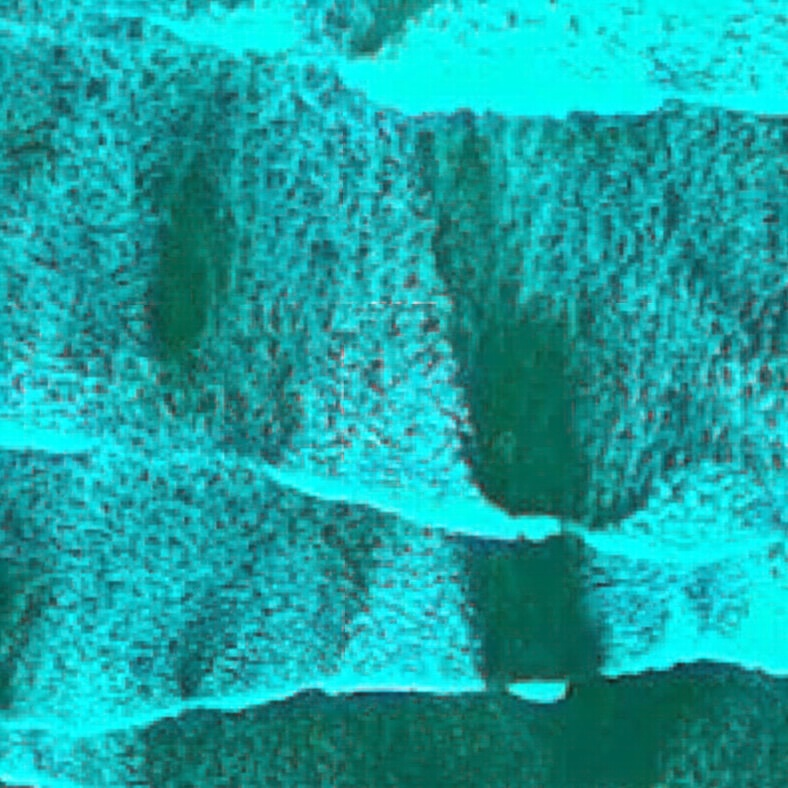rip_current: (309, 97, 678, 720)
